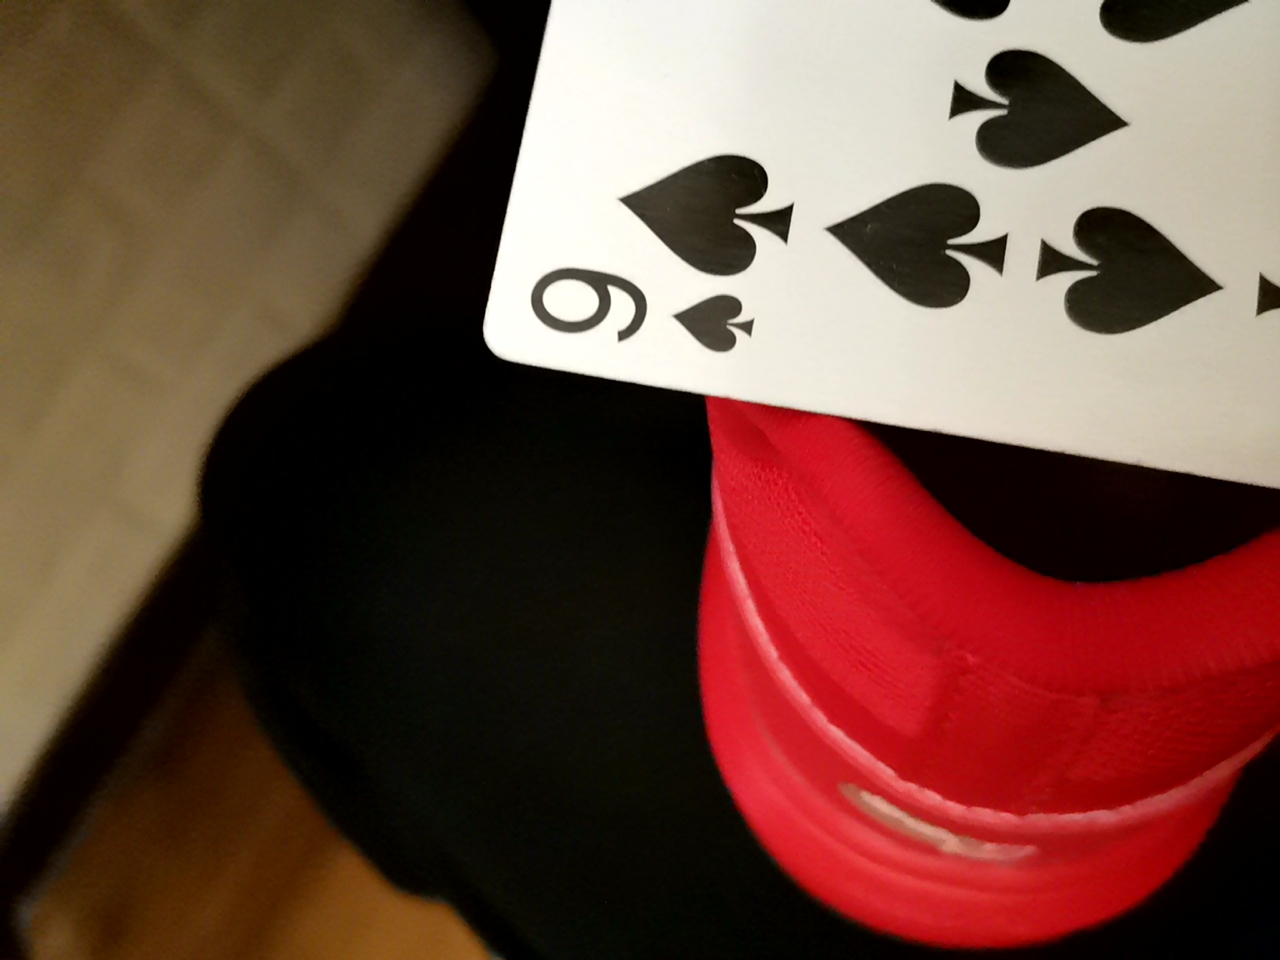ht 9: (444, 9, 1273, 520)
